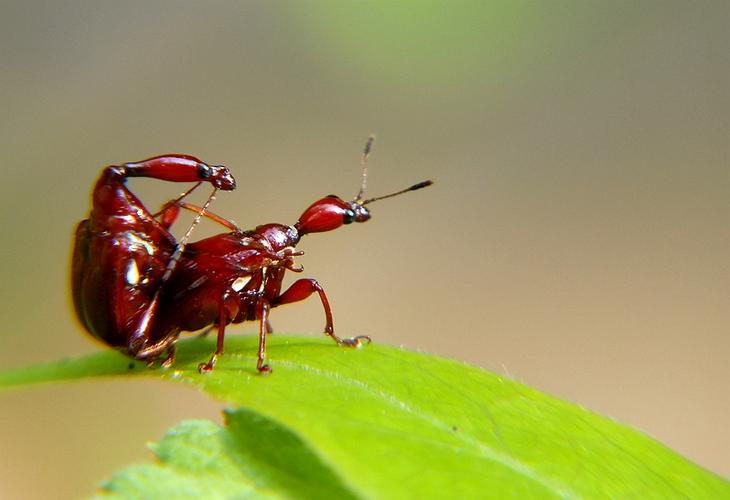Curculionidae: (150, 134, 434, 374), (67, 152, 236, 370)
